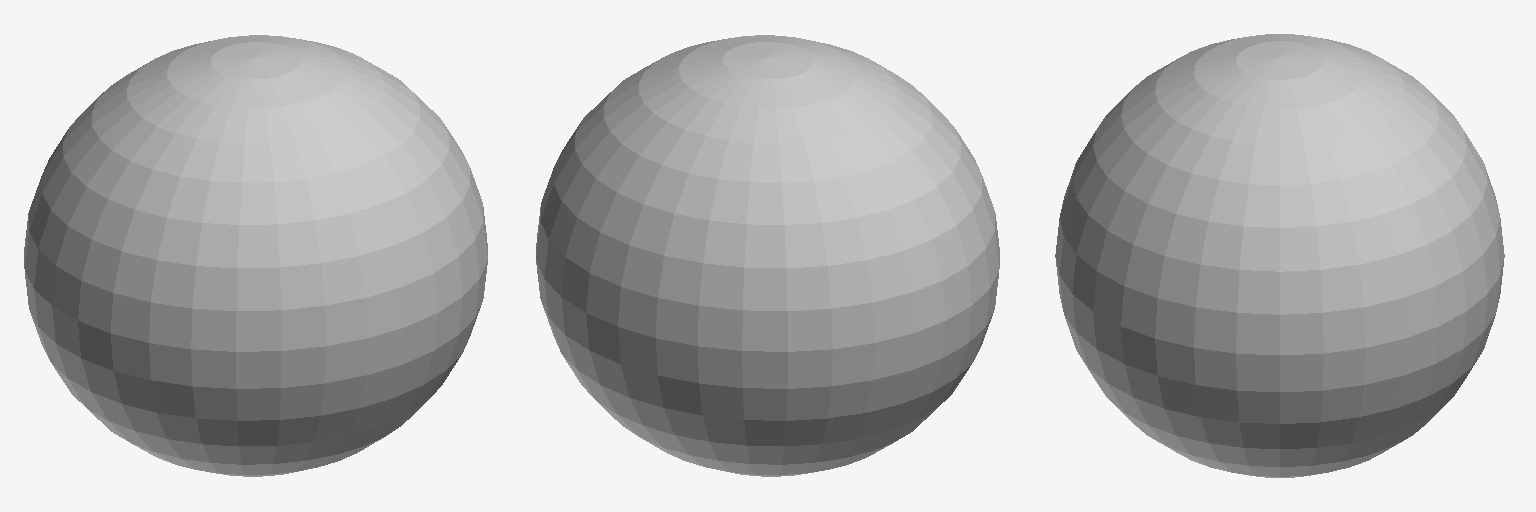
The model's file is projectile.obj.
The picture shows the model from 3 angles: view 1: azimuth 30°, elevation 25°; view 2: azimuth 150°, elevation 25°; view 3: azimuth 270°, elevation 25°; orthographic projection.
Visible parts, largest first — view 1: off; view 2: off; view 3: off.
Boxes of the visible parts, box(x1,y1,x2,y2) form: off: box(24, 35, 487, 476); off: box(536, 35, 999, 476); off: box(1055, 34, 1504, 477).
Bounding box in the file's own units: 2.13 × 1.98 × 2.03.